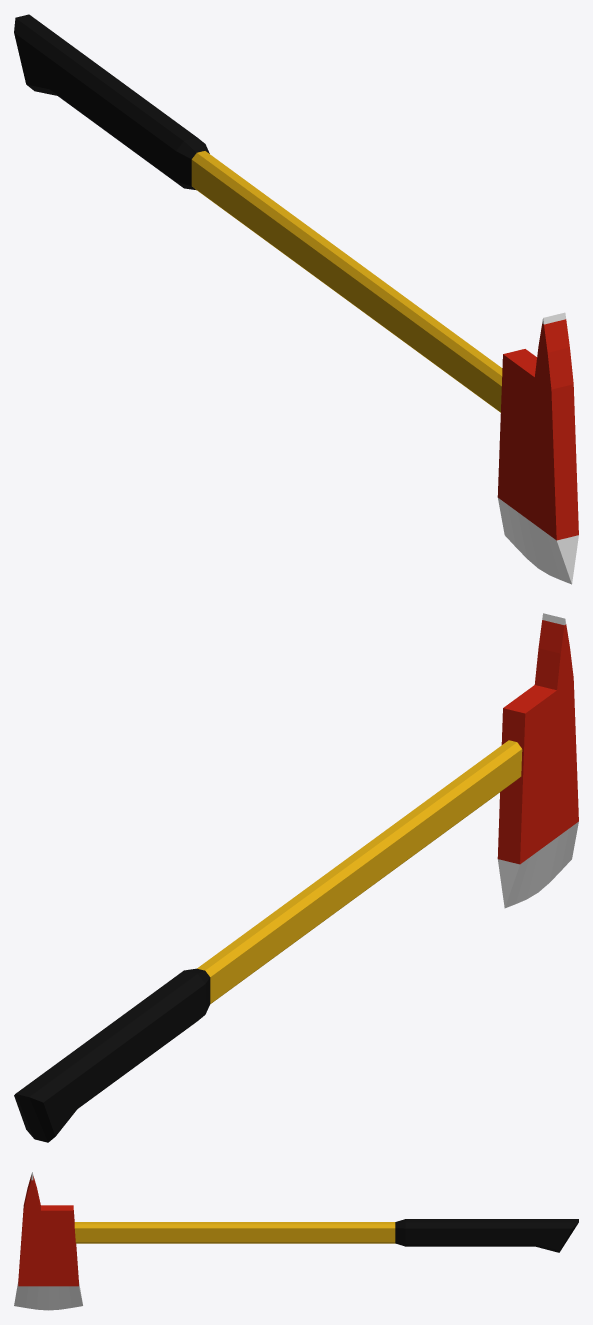
File: melee_axe.glb
3 renders of one model, top to bottom at view 1: azimuth 30°, elevation 25°; view 2: azimuth 150°, elevation 25°; view 3: azimuth 270°, elevation 25°, orthographic. The views are drawn at different scales.
Parts seen in each view (by area): view 1: melee_axe; view 2: melee_axe; view 3: melee_axe.
Part boxes in pixels (<box>): melee_axe: <box>14,14,578,584</box>; melee_axe: <box>14,613,578,1142</box>; melee_axe: <box>14,1172,578,1310</box>.
Bounding box in the file's own units: 0.026 × 0.2245 × 0.8439.
